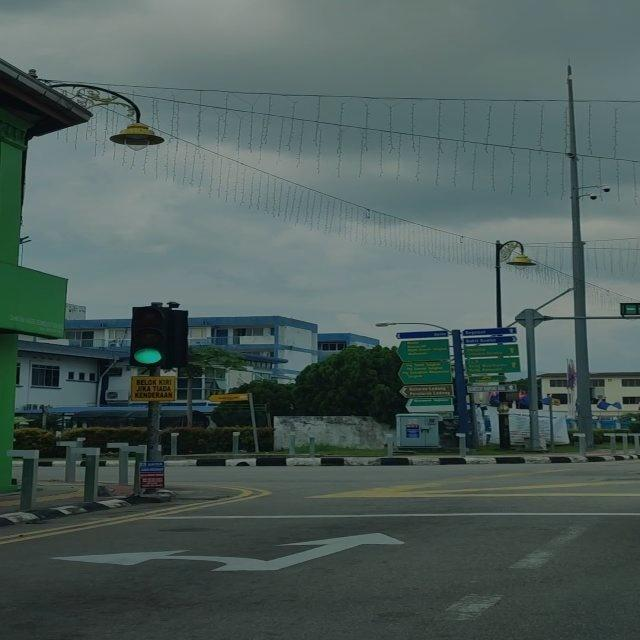Green: (130, 304, 169, 368)
